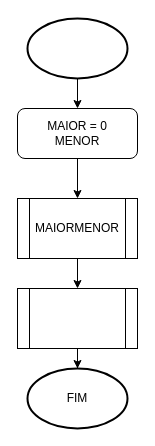
The diagram is 155 pixels wide and 446 high, and some of its shapes have lost their labels. Here are the shapes that lost their labels. From the top down, the box of each, then its label:
(26, 17, 128, 79): INICIO
(16, 288, 138, 348): FINALIZAR
